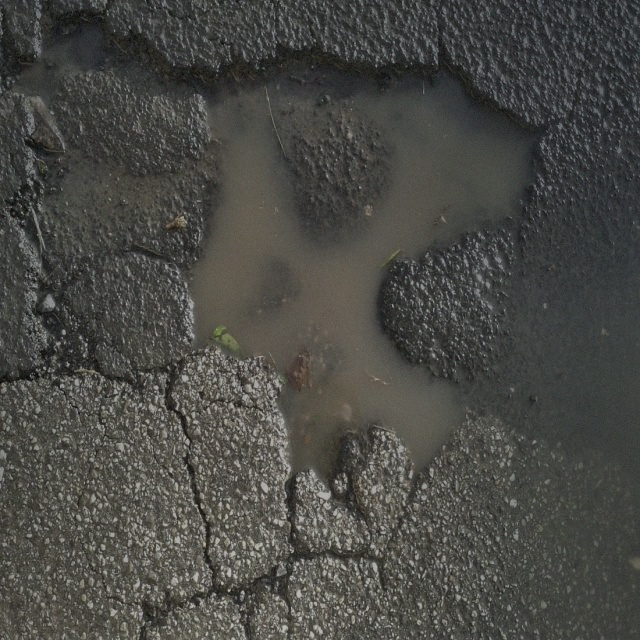pothole: (174, 31, 545, 500), (15, 10, 121, 102)
